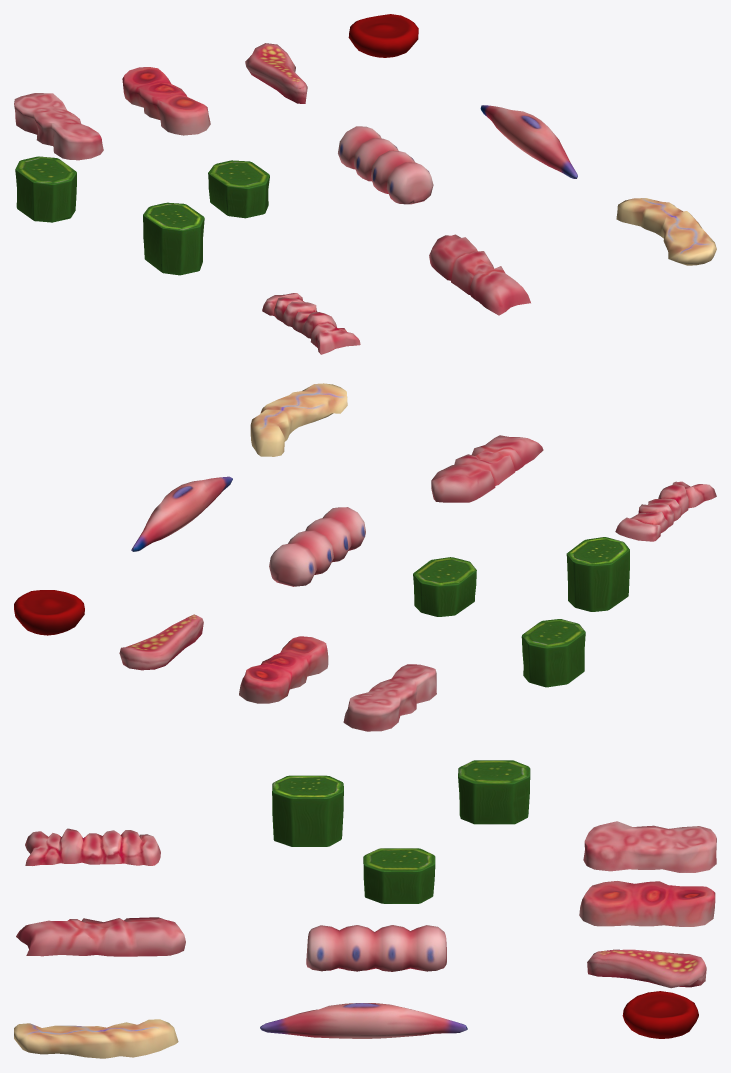
File: Level_Obstacle_Proprs.fbx
3 renders of one model, top to bottom at view 1: azimuth 30°, elevation 25°; view 2: azimuth 150°, elevation 25°; view 3: azimuth 270°, elevation 25°, orthographic. The views are drawn at different scales.
Visible parts, largest first — view 1: Ob_7, Ob_1, Ob_8, Ob_3, Ob_6, Ob_4, Ob_8_2, Ob_8_1, Ob_9, Ob_2, pSphere1, Ob_5; view 2: Ob_7, Ob_1, Ob_8, Ob_3, Ob_6, Ob_8_2, Ob_4, Ob_8_1, Ob_9, Ob_2, pSphere1, Ob_5; view 3: Ob_7, Ob_3, Ob_1, Ob_4, Ob_9, Ob_6, Ob_8, Ob_8_2, Ob_2, Ob_8_1, Ob_5, pSphere1.
Boxes of the visible parts, x1,y1,x2,y2 form: Ob_7: [338, 126, 433, 204]; Ob_1: [429, 234, 530, 315]; Ob_8: [143, 202, 204, 275]; Ob_3: [14, 93, 103, 160]; Ob_6: [616, 198, 716, 265]; Ob_4: [122, 67, 210, 135]; Ob_8_2: [15, 156, 76, 222]; Ob_8_1: [208, 160, 269, 218]; Ob_9: [480, 105, 577, 178]; Ob_2: [262, 293, 360, 354]; pSphere1: [348, 14, 418, 57]; Ob_5: [245, 43, 307, 103]; Ob_7: [269, 507, 365, 586]; Ob_1: [431, 435, 543, 502]; Ob_8: [566, 537, 629, 611]; Ob_3: [343, 664, 436, 731]; Ob_6: [250, 383, 347, 456]; Ob_8_2: [521, 619, 585, 687]; Ob_4: [239, 636, 328, 703]; Ob_8_1: [413, 557, 476, 616]; Ob_9: [131, 476, 232, 551]; Ob_2: [615, 481, 716, 541]; pSphere1: [14, 590, 84, 635]; Ob_5: [119, 614, 203, 670]; Ob_7: [306, 925, 446, 971]; Ob_3: [583, 821, 716, 872]; Ob_1: [16, 917, 185, 956]; Ob_4: [579, 881, 715, 926]; Ob_9: [260, 1003, 467, 1038]; Ob_6: [14, 1019, 178, 1058]; Ob_8: [272, 775, 343, 846]; Ob_8_2: [458, 760, 530, 824]; Ob_2: [25, 828, 160, 865]; Ob_8_1: [363, 848, 435, 903]; Ob_5: [587, 949, 706, 988]; pSphere1: [622, 991, 698, 1038].
Size of the model in its own units: 25 by 2.31 by 28.98.
